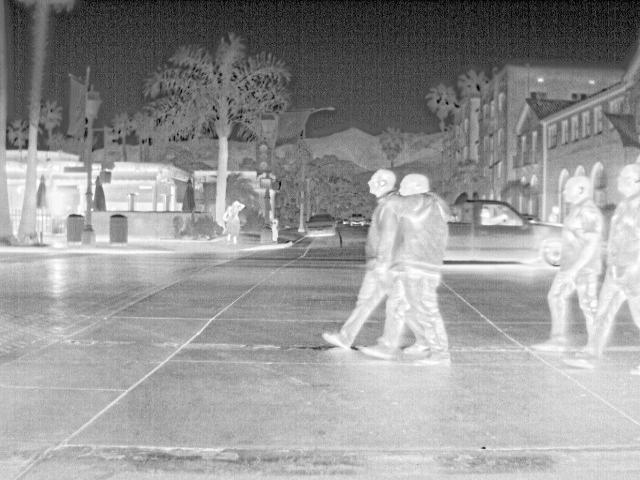car: (444, 198, 566, 268), (304, 213, 339, 239), (349, 213, 366, 228)
person: (357, 174, 452, 368), (561, 165, 640, 367), (322, 168, 401, 353), (529, 176, 606, 351), (224, 200, 248, 244), (479, 207, 510, 227), (547, 206, 562, 224)
